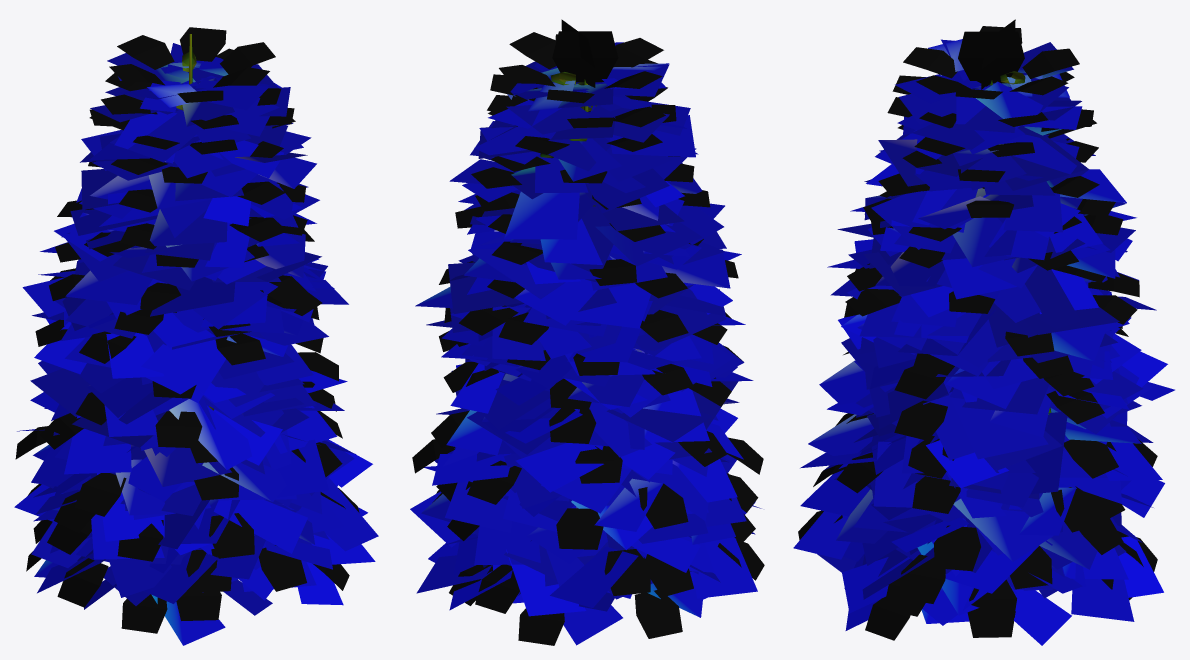
File: tree_young_3.glb
The picture shows the model from 3 angles, left to right: view 1: azimuth 30°, elevation 25°; view 2: azimuth 150°, elevation 25°; view 3: azimuth 270°, elevation 25°; orthographic projection. The views are drawn at different scales.
Visible parts, largest first — view 1: lod1_young_3; view 2: lod1_young_3; view 3: lod1_young_3.
Boxes of the visible parts, x1,y1,x2,y2 form: lod1_young_3: (14, 27, 378, 645); lod1_young_3: (410, 19, 764, 645); lod1_young_3: (793, 19, 1174, 645).
Bounding box in the file's own units: 3.91 × 6.35 × 3.9.
